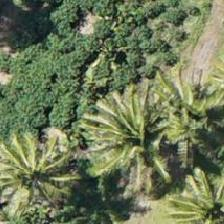coconut_tree: (92, 91, 182, 181), (0, 124, 80, 214), (169, 160, 223, 223)
